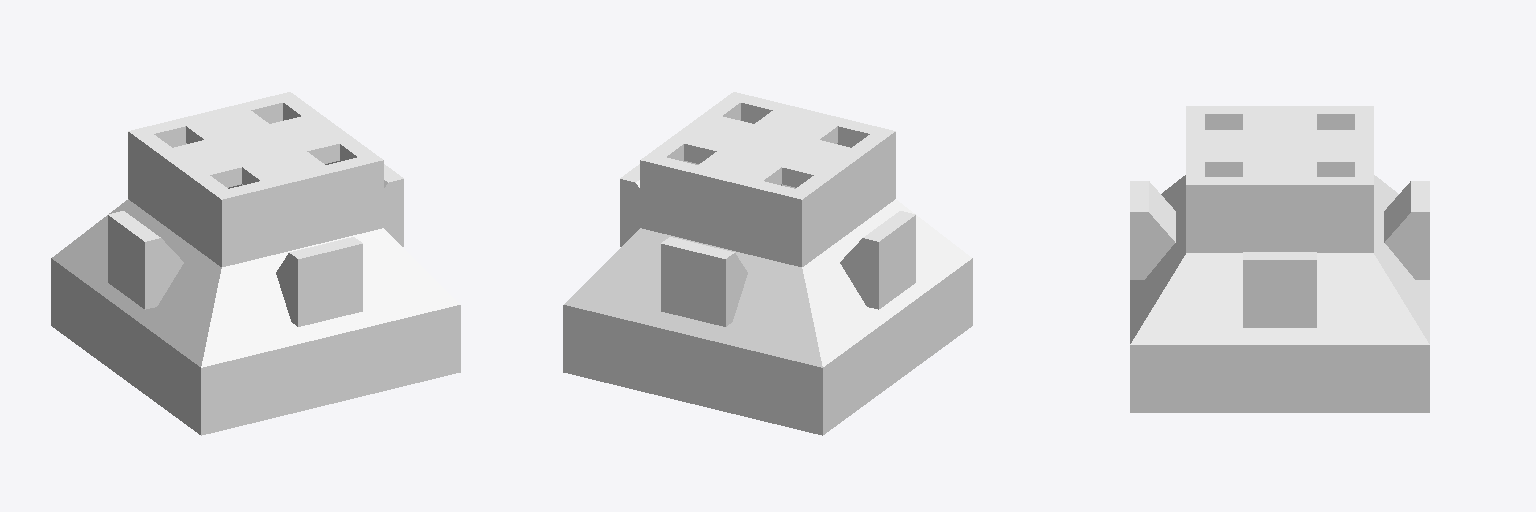
File: stability_field_generator.obj
3 renders of one model, left to right at view 1: azimuth 30°, elevation 25°; view 2: azimuth 150°, elevation 25°; view 3: azimuth 270°, elevation 25°, orthographic.
Visible parts, largest first — view 1: Base_Cube.006, Corners_Cube.017, Power_Ports_Cube.003, Arm_South_Cube.008, Arm_West_Cube.009, Arm_East_Cube.010, Arm_North_Cube.001; view 2: Base_Cube.006, Corners_Cube.017, Power_Ports_Cube.003, Arm_North_Cube.001, Arm_West_Cube.009, Arm_East_Cube.010, Arm_South_Cube.008; view 3: Base_Cube.006, Power_Ports_Cube.003, Corners_Cube.017, Arm_East_Cube.010, Arm_North_Cube.001, Arm_South_Cube.008, Arm_West_Cube.009.
Boxes of the visible parts, <box> form: Base_Cube.006: <box>51,124,460,435</box>; Corners_Cube.017: <box>128,92,383,266</box>; Power_Ports_Cube.003: <box>108,164,403,326</box>; Arm_South_Cube.008: <box>242,152,334,255</box>; Arm_West_Cube.009: <box>156,140,241,246</box>; Arm_East_Cube.010: <box>270,112,355,164</box>; Arm_North_Cube.001: <box>177,104,268,143</box>; Base_Cube.006: <box>563,124,972,435</box>; Corners_Cube.017: <box>640,92,895,266</box>; Power_Ports_Cube.003: <box>620,164,915,326</box>; Arm_North_Cube.001: <box>689,152,781,255</box>; Arm_West_Cube.009: <box>782,140,867,246</box>; Arm_East_Cube.010: <box>668,112,753,164</box>; Arm_South_Cube.008: <box>755,104,846,143</box>; Base_Cube.006: <box>1130,130,1429,412</box>; Power_Ports_Cube.003: <box>1130,181,1429,327</box>; Corners_Cube.017: <box>1186,106,1373,252</box>; Arm_East_Cube.010: <box>1243,162,1316,251</box>; Arm_North_Cube.001: <box>1317,130,1373,176</box>; Arm_South_Cube.008: <box>1186,130,1242,176</box>; Arm_West_Cube.009: <box>1243,106,1316,129</box>.
Size of the model in its own units: 1 by 0.8125 by 1.